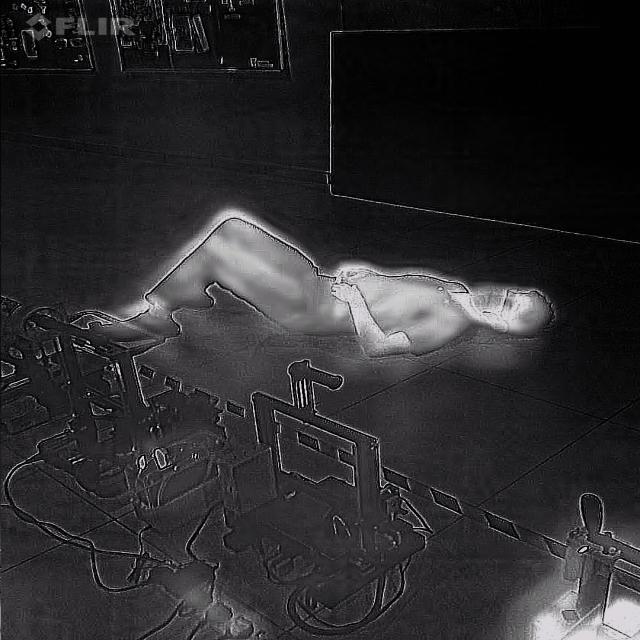Victim: (77, 197, 556, 360)
